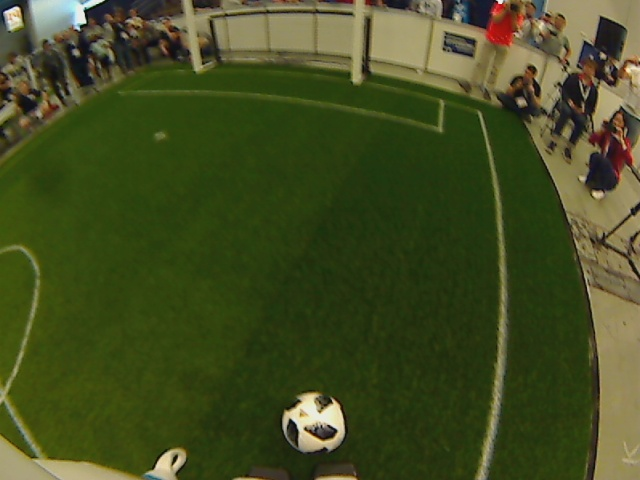ball: (279, 389, 347, 456)
